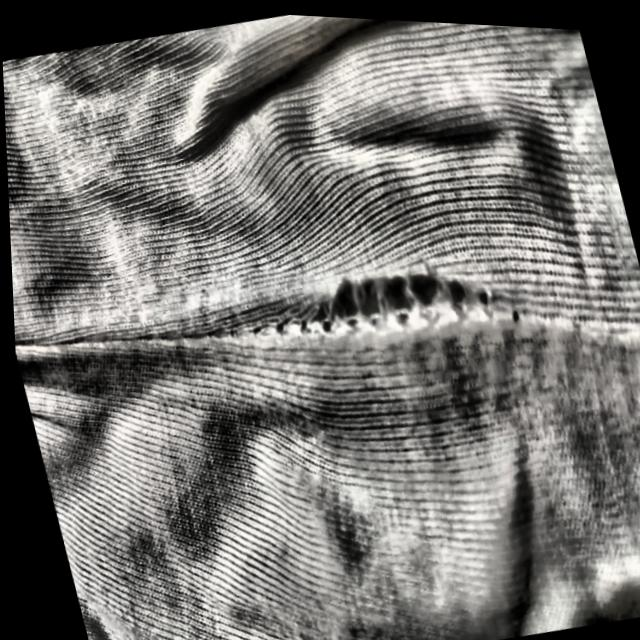Stitch: (307, 243, 491, 346)
